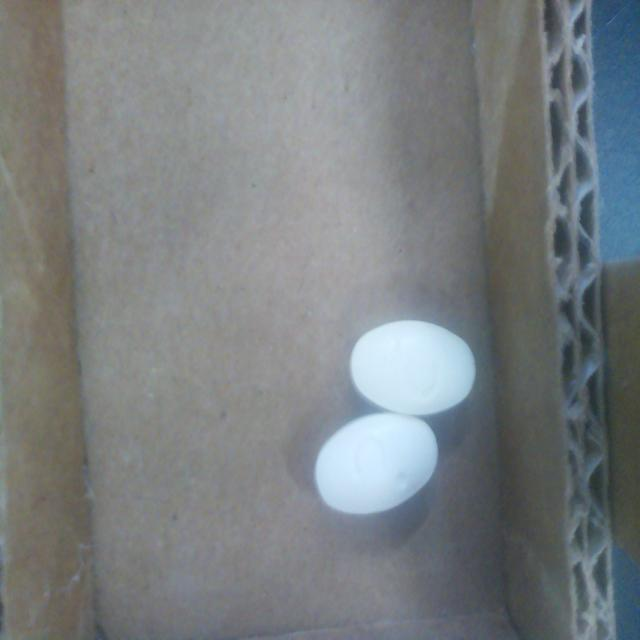pill: (315, 413, 438, 515), (350, 320, 476, 416)
